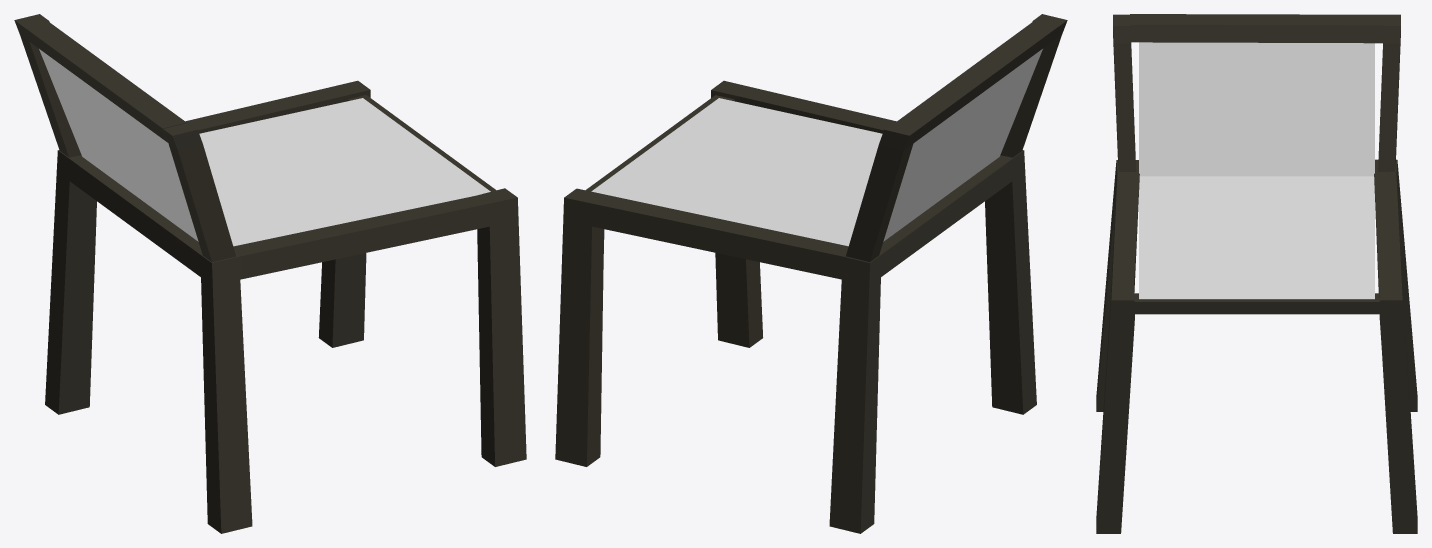
Rendered from camp_chair.glb.
The picture shows the model from 3 angles, left to right: view 1: azimuth 30°, elevation 25°; view 2: azimuth 150°, elevation 25°; view 3: azimuth 270°, elevation 25°; orthographic projection. The views are drawn at different scales.
Parts seen in each view (by area): view 1: Cube, Cube.001; view 2: Cube, Cube.001; view 3: Cube.001, Cube.
Part boxes in pixels (bbox=[...]): Cube: bbox=[14, 14, 526, 533]; Cube.001: bbox=[39, 49, 490, 246]; Cube: bbox=[555, 14, 1067, 533]; Cube.001: bbox=[591, 49, 1042, 246]; Cube.001: bbox=[1139, 42, 1374, 299]; Cube: bbox=[1096, 14, 1417, 533].
Size of the model in its own units: 1.49 by 1.65 by 1.31.
Materials: 1 (1 with a texture image).
